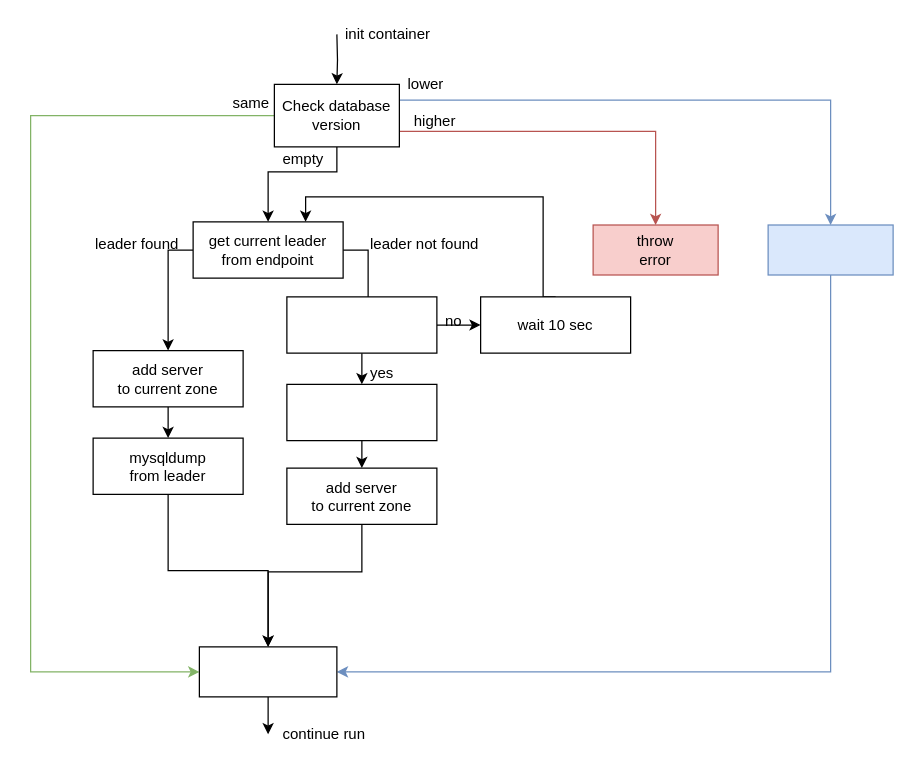
Image size: 915x768. Some labels were removed from this diagram. The centre of each missing label's shape, as x and y in pixels:
check instance_id == 0: (361,324)
init database: (361,412)
preform upgrade: (830,249)
write SERVER_ID to oned.conf: (267,671)
